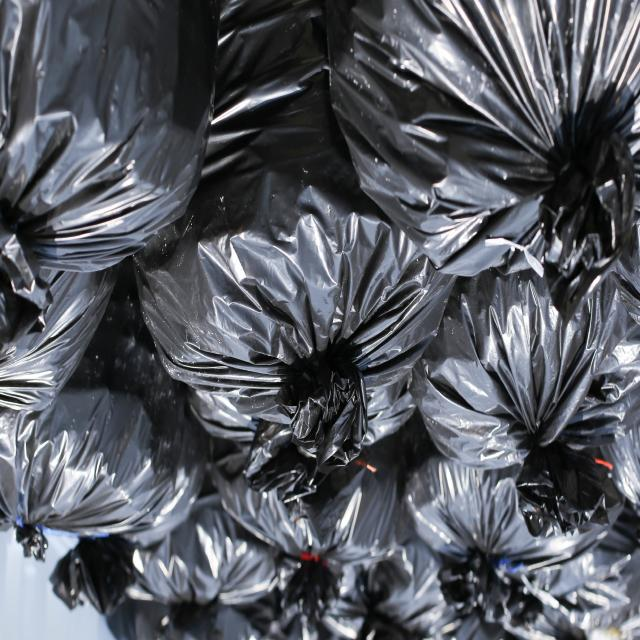plastik: (136, 0, 455, 472), (327, 0, 640, 318), (0, 0, 219, 348), (0, 261, 208, 560), (411, 270, 640, 536), (406, 417, 610, 622), (212, 433, 409, 621), (134, 478, 278, 640), (501, 507, 640, 640), (0, 265, 118, 410), (323, 525, 456, 640), (50, 534, 136, 615), (601, 422, 640, 517)
